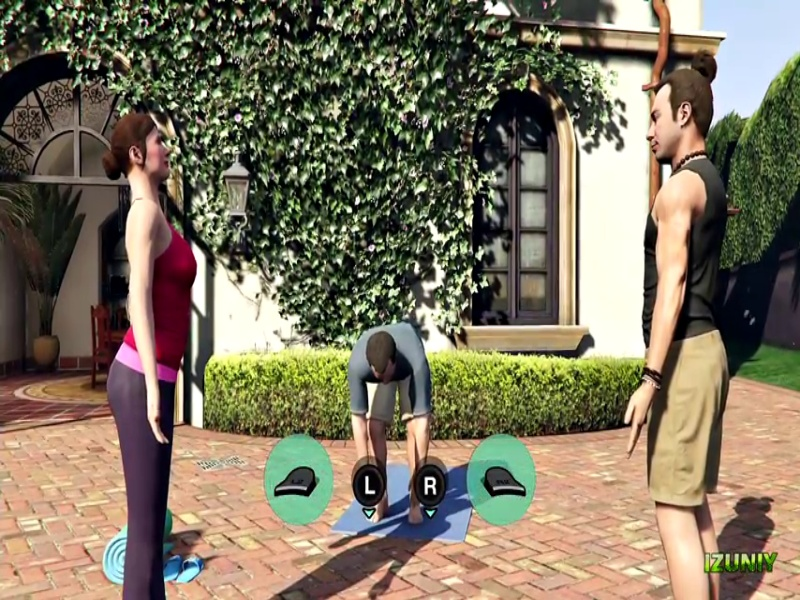licenseplate: (201, 97, 600, 110)
